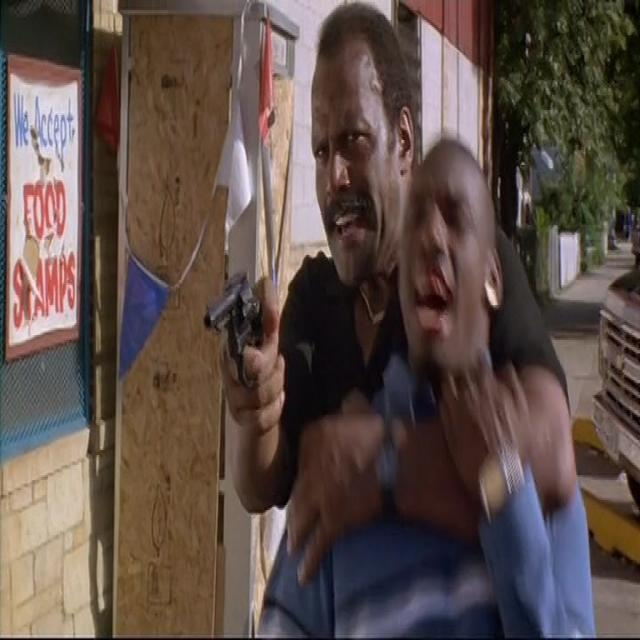gun-knife-thesis - v11 Yolov5 augmented: (198, 250, 279, 425)
